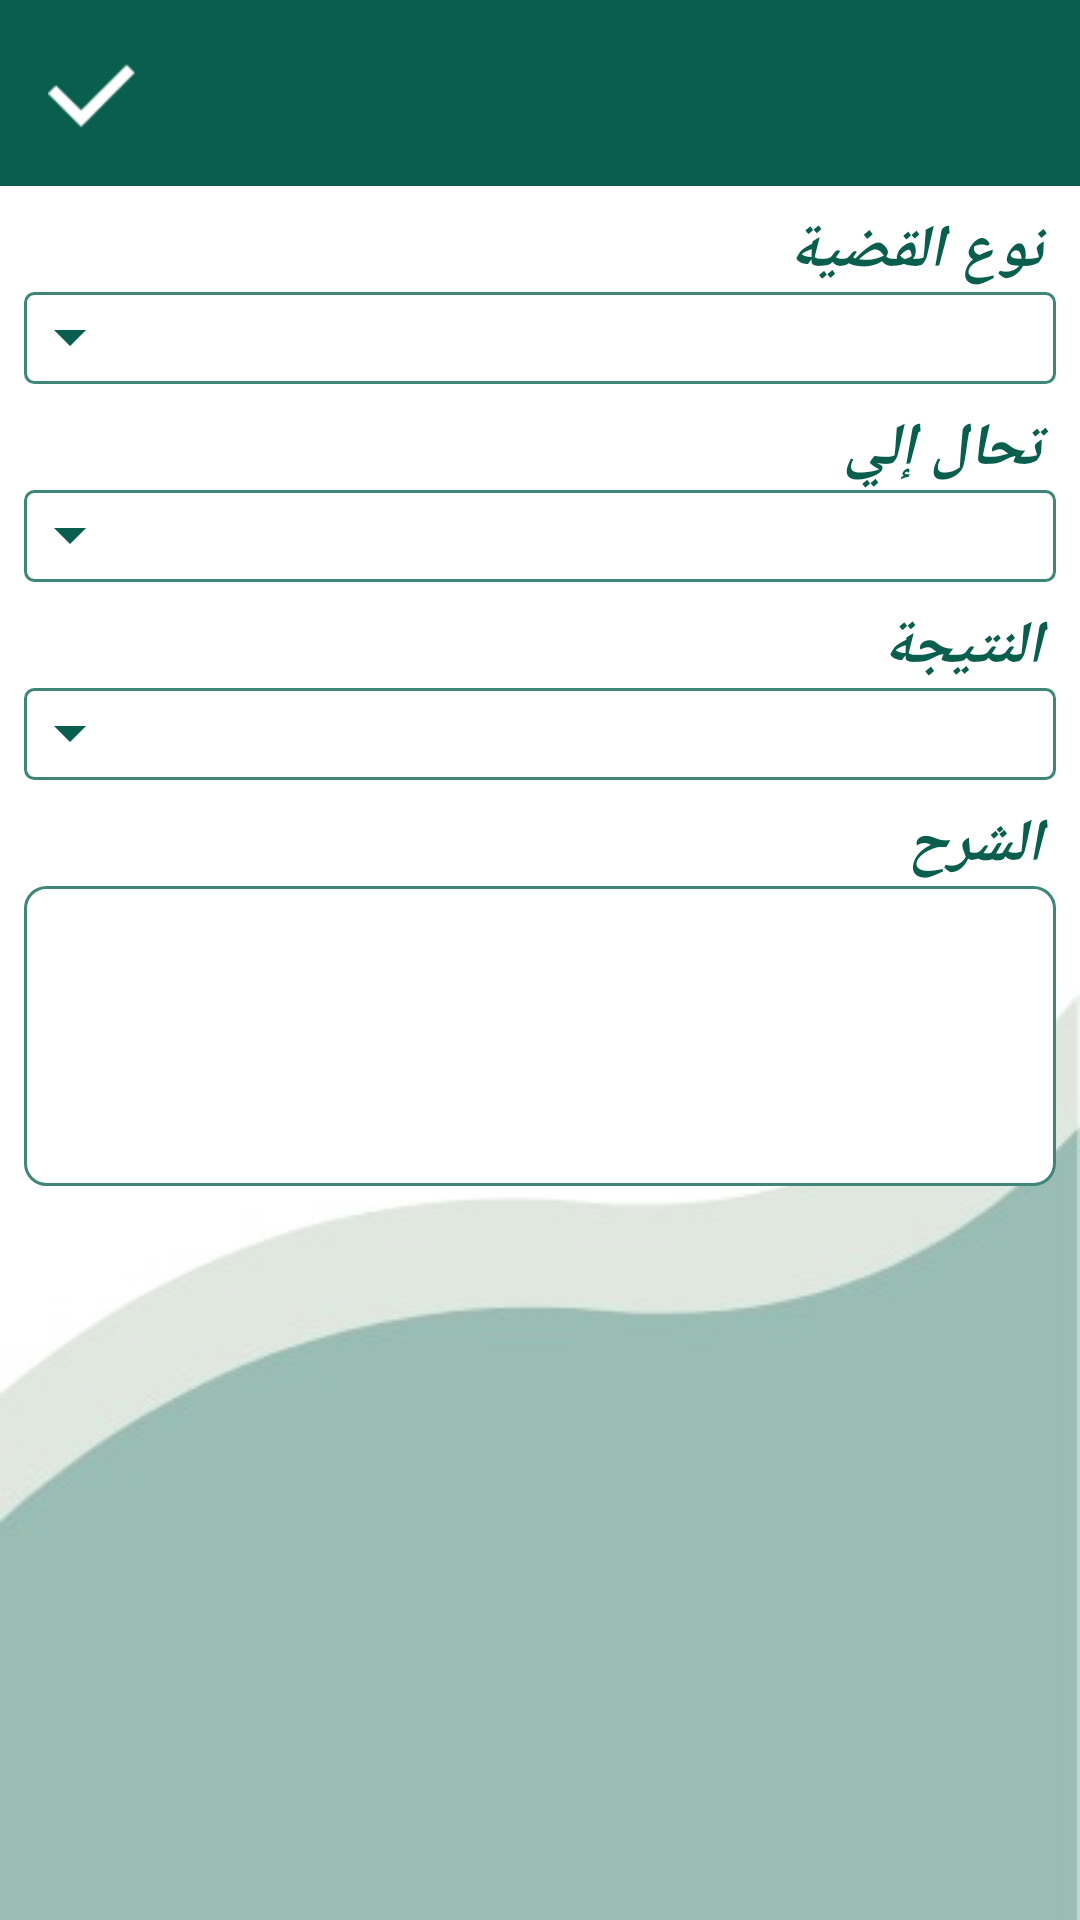

Where icons sit on this 1080 x 1920 app screen, as [x1,y1,x2,y2]:
right: [48,64,135,127]
